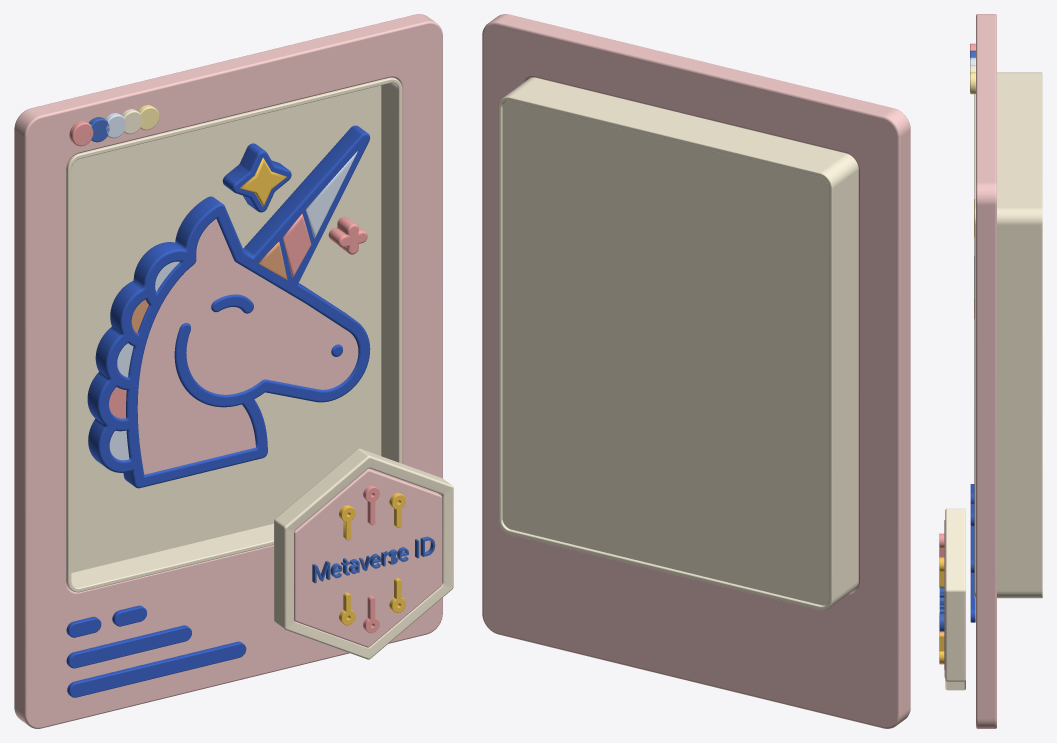
The model's file is card1.fbx.
3 views of the same model, side by side, from view 1: azimuth 30°, elevation 25°; view 2: azimuth 150°, elevation 25°; view 3: azimuth 270°, elevation 25° (orthographic). The views are drawn at different scales.
Parts seen in each view (by area): view 1: base, back, Curve_218, Curve_222, NFT_base, NFT_outline, txt2, txt_1, Curve_224, Curve_215, Extrude, Curve_216 (+3 smaller); view 2: back, base; view 3: back, base, NFT_outline, NFT_base, txt2, Extrude, txt_1.
Part boxes in pixels (x1,y1,x2,y2): base: (14,14,442,728); back: (66,77,402,592); Curve_218: (137,219,358,474); Curve_222: (87,125,370,488); NFT_base: (294,468,442,647); NFT_outline: (274,448,453,659); txt2: (67,641,246,697); txt_1: (66,625,191,668); Curve_224: (222,143,291,212); Curve_215: (305,151,357,238); Extrude: (312,536,433,582); Curve_216: (282,214,311,277); back: (498,77,858,610); base: (482,14,910,728); back: (974,72,1042,598); base: (976,14,996,728); NFT_outline: (945,508,965,690); NFT_base: (944,520,945,677); txt2: (970,573,975,622); Extrude: (939,587,944,631); txt_1: (970,526,974,572).
Size of the model in its own units: 250 by 350 by 60.15.
